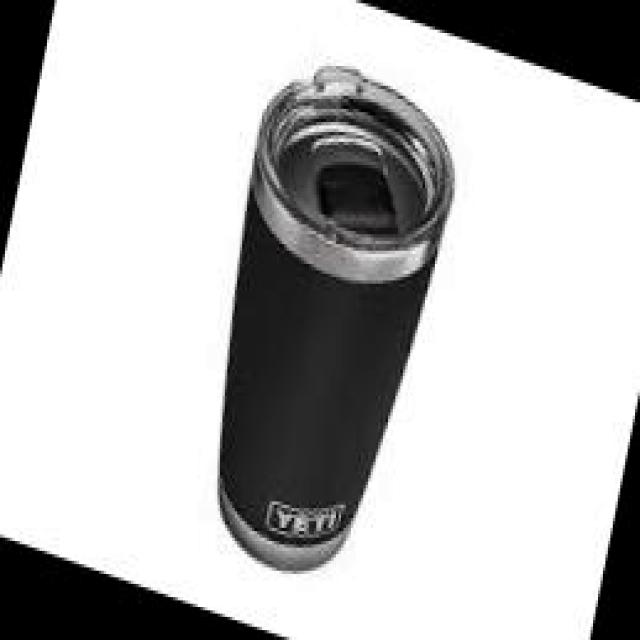bottle: (175, 39, 467, 604)
